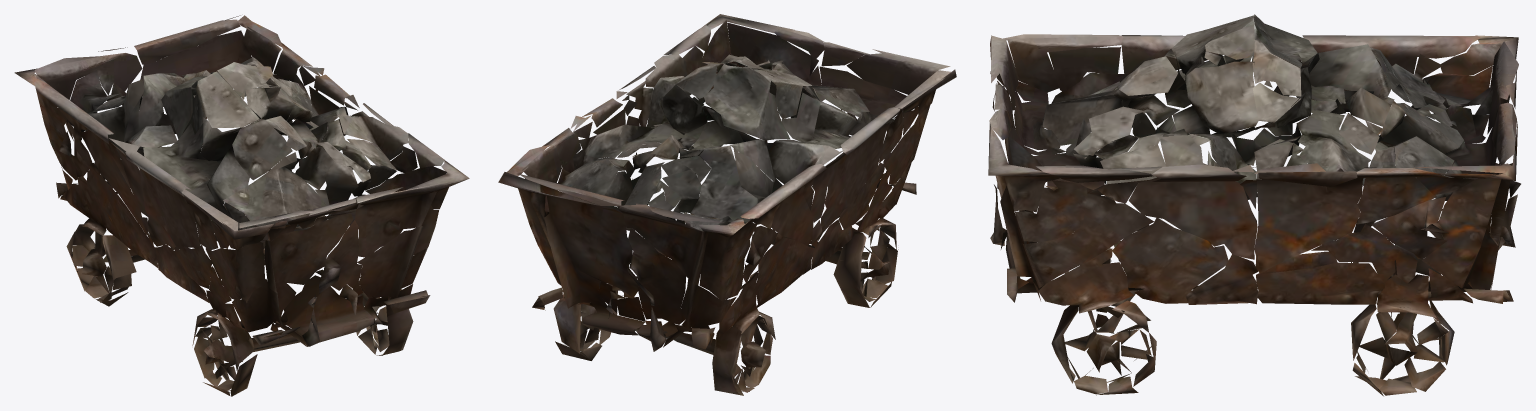
File: cart.glb
3 views of the same model, side by side, from view 1: azimuth 30°, elevation 25°; view 2: azimuth 150°, elevation 25°; view 3: azimuth 270°, elevation 25° (orthographic). The views are drawn at different scales.
Visible parts, largest first — view 1: tripo_node_ef2c4621-73e5-419f-b2c3-e9f193f82af5; view 2: tripo_node_ef2c4621-73e5-419f-b2c3-e9f193f82af5; view 3: tripo_node_ef2c4621-73e5-419f-b2c3-e9f193f82af5.
Boxes of the visible parts, box(x1,y1,x2,y2) form: tripo_node_ef2c4621-73e5-419f-b2c3-e9f193f82af5: box(14, 15, 469, 396); tripo_node_ef2c4621-73e5-419f-b2c3-e9f193f82af5: box(498, 14, 956, 395); tripo_node_ef2c4621-73e5-419f-b2c3-e9f193f82af5: box(988, 14, 1520, 396).
Size of the model in its own units: 0.6075 by 0.6716 by 0.9992.
Materials: 1 (1 with a texture image).
